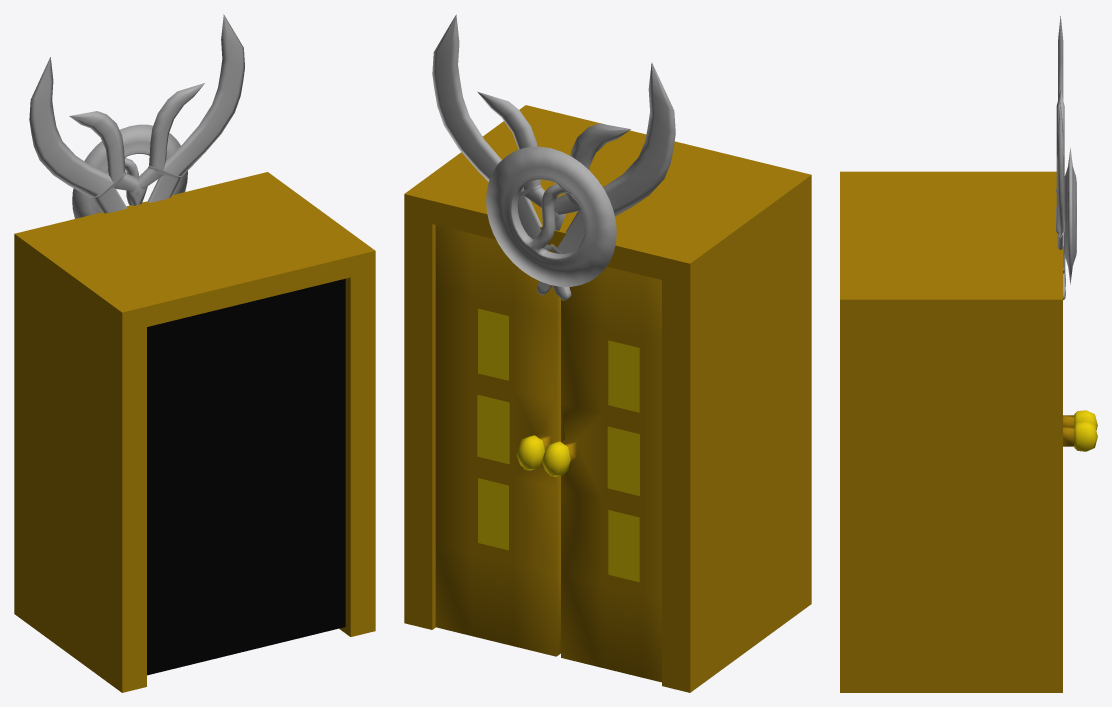
The model's file is Item_Door.fbx.
3 views of the same model, side by side, from view 1: azimuth 30°, elevation 25°; view 2: azimuth 150°, elevation 25°; view 3: azimuth 270°, elevation 25° (orthographic). The views are drawn at different scales.
Parts seen in each view (by area): view 1: pCube1, pCube6, pPipe2; view 2: pCube1, pCube4, pCube3, pPipe2; view 3: pCube1, pPipe2, pCube4, pCube3.
Part boxes in pixels (<box>): pCube1: <box>14,172,375,692</box>; pCube6: <box>147,278,345,675</box>; pPipe2: <box>29,14,244,218</box>; pCube1: <box>404,105,811,692</box>; pCube4: <box>435,225,560,656</box>; pCube3: <box>542,266,661,682</box>; pPipe2: <box>432,14,675,300</box>; pCube1: <box>840,171,1062,692</box>; pPipe2: <box>1056,16,1076,299</box>; pCube4: <box>1063,421,1097,451</box>; pCube3: <box>1063,410,1097,430</box>.
Size of the model in its own units: 12.9 by 26.76 by 10.99.
